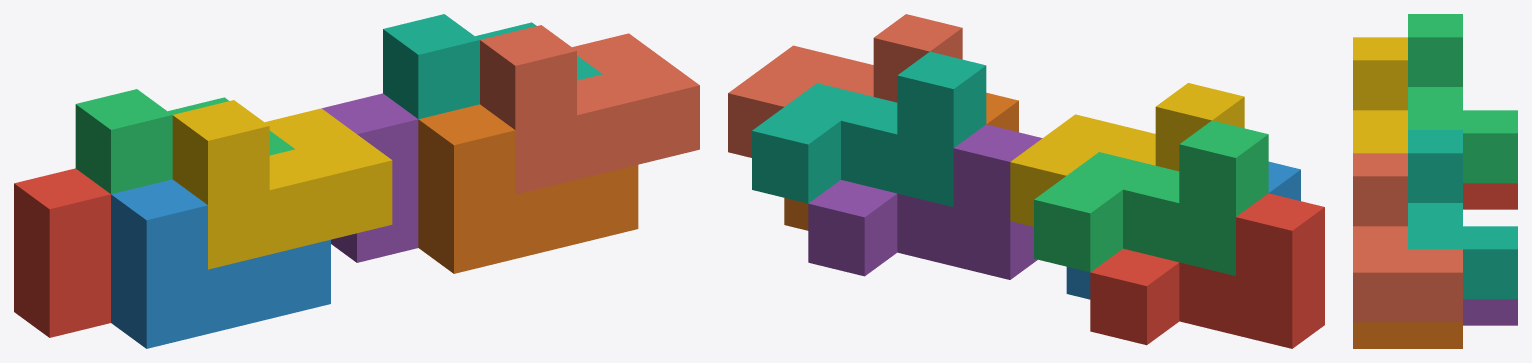
The model's file is tiling.obj.
3 views of the same model, side by side, from view 1: azimuth 30°, elevation 25°; view 2: azimuth 150°, elevation 25°; view 3: azimuth 270°, elevation 25° (orthographic). The views are drawn at different scales.
Visible parts, largest first — view 1: copy_1_domain_4, copy_1_domain_8, copy_1_domain_6, copy_1_domain_2, copy_1_domain_1, copy_1_domain_3, copy_1_domain_7, copy_1_domain_5; view 2: copy_1_domain_7, copy_1_domain_3, copy_1_domain_1, copy_1_domain_5, copy_1_domain_8, copy_1_domain_4, copy_1_domain_6, copy_1_domain_2; view 3: copy_1_domain_8, copy_1_domain_7, copy_1_domain_3, copy_1_domain_4, copy_1_domain_6, copy_1_domain_1, copy_1_domain_5.
Part boxes in pixels (left/top/right/bottom): copy_1_domain_4: left=172, top=100, right=392, bottom=269; copy_1_domain_8: left=480, top=25, right=699, bottom=194; copy_1_domain_6: left=418, top=104, right=638, bottom=273; copy_1_domain_2: left=111, top=179, right=330, bottom=348; copy_1_domain_1: left=14, top=168, right=110, bottom=337; copy_1_domain_3: left=75, top=89, right=294, bottom=194; copy_1_domain_7: left=383, top=14, right=602, bottom=119; copy_1_domain_5: left=322, top=93, right=418, bottom=262; copy_1_domain_7: left=752, top=51, right=986, bottom=207; copy_1_domain_3: left=1034, top=120, right=1268, bottom=275; copy_1_domain_1: left=1090, top=193, right=1324, bottom=348; copy_1_domain_5: left=808, top=124, right=1042, bottom=279; copy_1_domain_8: left=728, top=14, right=962, bottom=157; copy_1_domain_4: left=1010, top=83, right=1244, bottom=226; copy_1_domain_6: left=784, top=92, right=1018, bottom=230; copy_1_domain_2: left=1066, top=161, right=1300, bottom=299; copy_1_domain_8: left=1353, top=153, right=1462, bottom=322; copy_1_domain_7: left=1408, top=130, right=1517, bottom=299; copy_1_domain_3: left=1408, top=14, right=1517, bottom=183; copy_1_domain_4: left=1353, top=37, right=1407, bottom=153; copy_1_domain_6: left=1353, top=322, right=1462, bottom=348; copy_1_domain_1: left=1463, top=183, right=1517, bottom=209; copy_1_domain_5: left=1463, top=299, right=1517, bottom=325.
Size of the model in its own units: 10 by 3 by 3.
